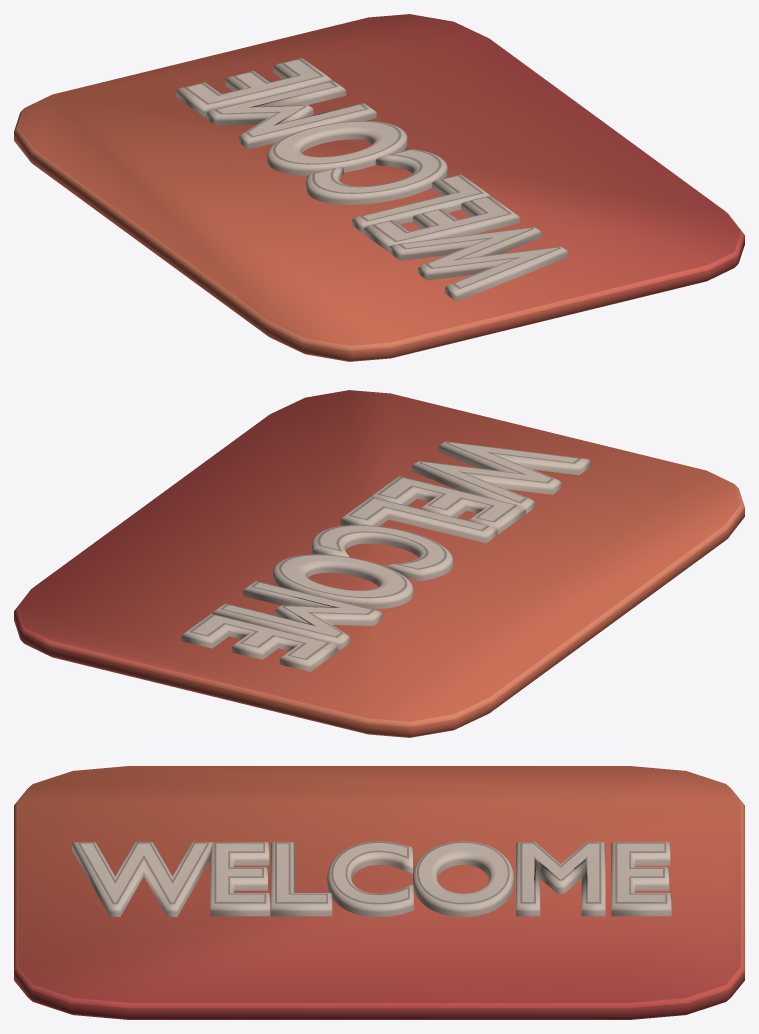
File: welcome.fbx
3 renders of one model, top to bottom at view 1: azimuth 30°, elevation 25°; view 2: azimuth 150°, elevation 25°; view 3: azimuth 270°, elevation 25°, orthographic. The views are drawn at different scales.
Visible parts, largest first — view 1: welcome; view 2: welcome; view 3: welcome.
Part boxes in pixels (x1,y1,x2,y2): welcome: (14, 14, 744, 361); welcome: (14, 390, 744, 737); welcome: (14, 766, 744, 1019).
Bounding box in the file's own units: 280 × 14.72 × 360.
